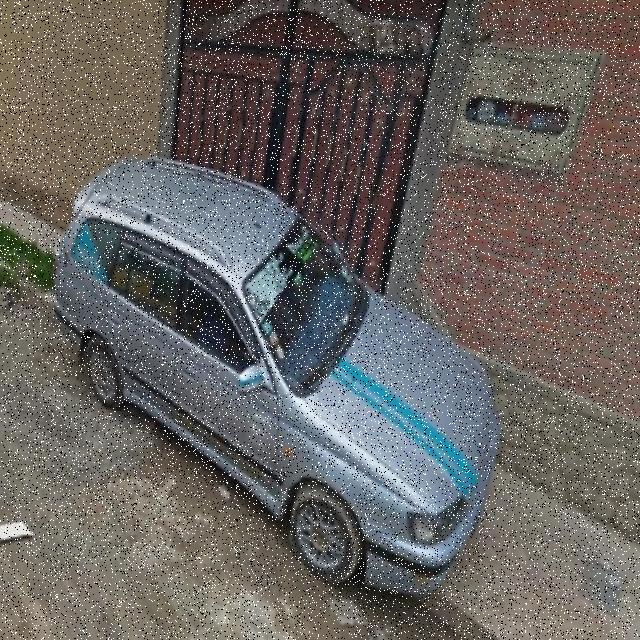cars: (65, 151, 505, 588)
